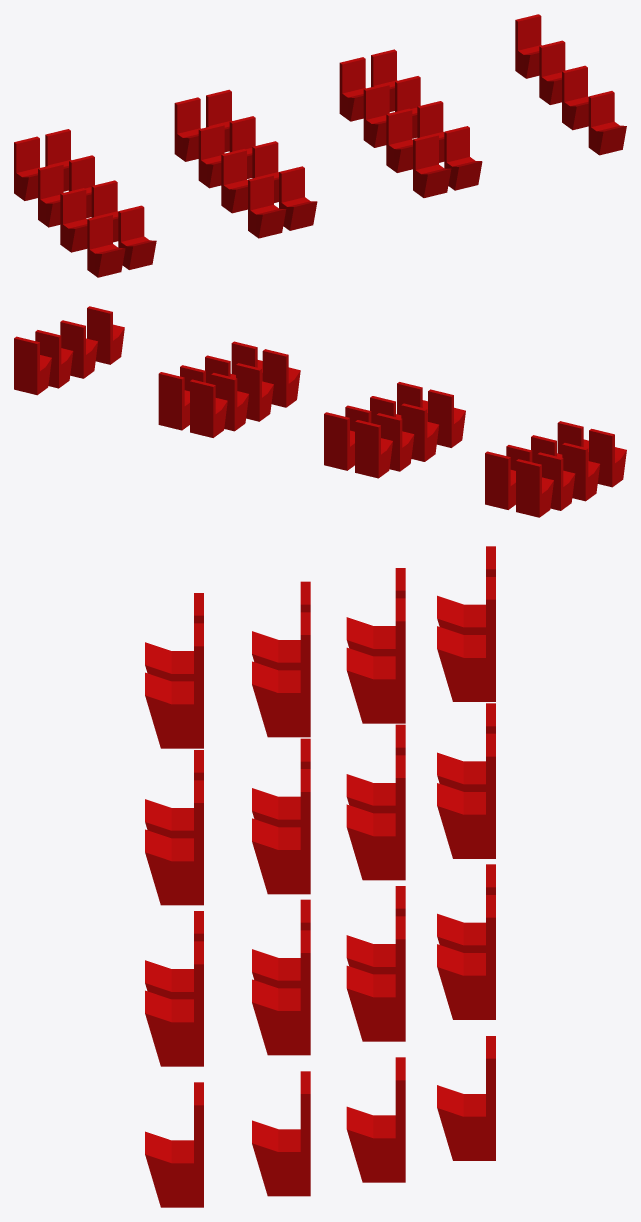
Rendered from chair.obj.
3 views of the same model, one above another, from view 1: azimuth 30°, elevation 25°; view 2: azimuth 150°, elevation 25°; view 3: azimuth 270°, elevation 25° (orthographic). The views are drawn at different scales.
Parts seen in each view (by area): view 1: Cube.119; view 2: Cube.119; view 3: Cube.119.
Boxes of the visible parts, x1,y1,x2,y2 form: Cube.119: (14, 14, 626, 277); Cube.119: (14, 306, 626, 517); Cube.119: (145, 546, 495, 1207).
Bounding box in the file's own units: 34.67 × 4.68 × 10.01.
